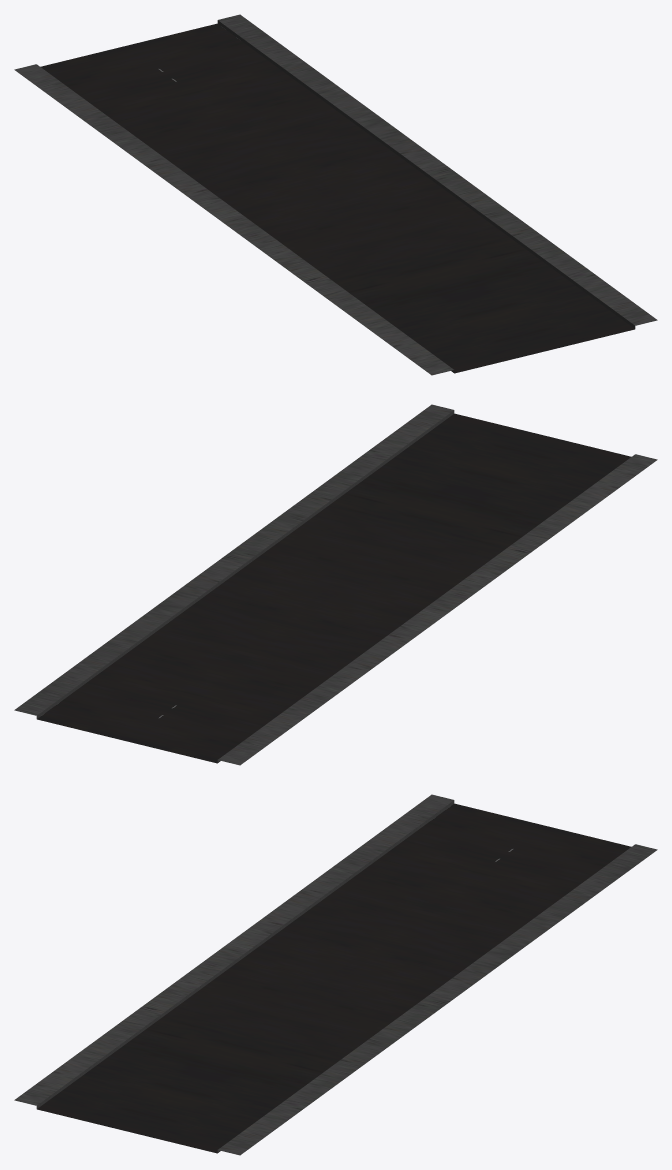
File: RJs_Road Slim 2+2 Basic Slope Node_lod.fbx
3 views of the same model, one above another, from view 1: azimuth 30°, elevation 25°; view 2: azimuth 150°, elevation 25°; view 3: azimuth 330°, elevation 25° (orthographic).
Visible parts, largest first — view 1: plane_lod; view 2: plane_lod; view 3: plane_lod.
Part boxes in pixels (bbox=[...]): plane_lod: bbox=[14, 14, 657, 375]; plane_lod: bbox=[14, 404, 657, 765]; plane_lod: bbox=[14, 794, 657, 1155].
Size of the model in its own units: 2000 by 30 by 6400.
